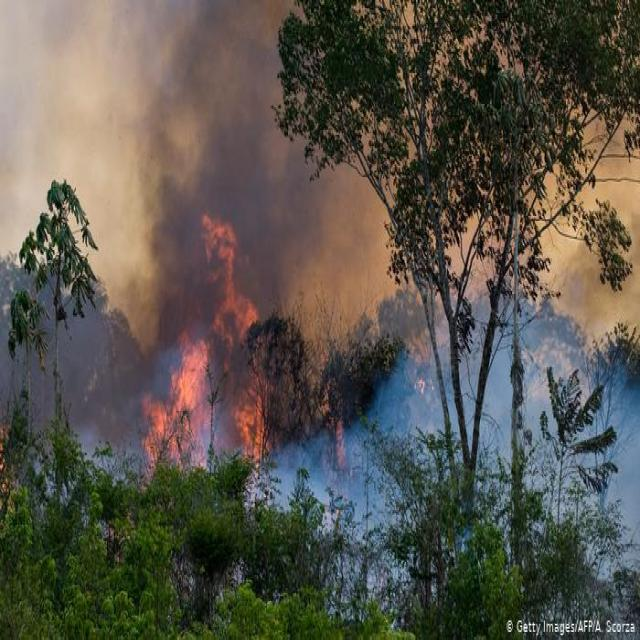fire: (144, 212, 271, 466)
smoke: (77, 5, 429, 454), (252, 285, 639, 578)
